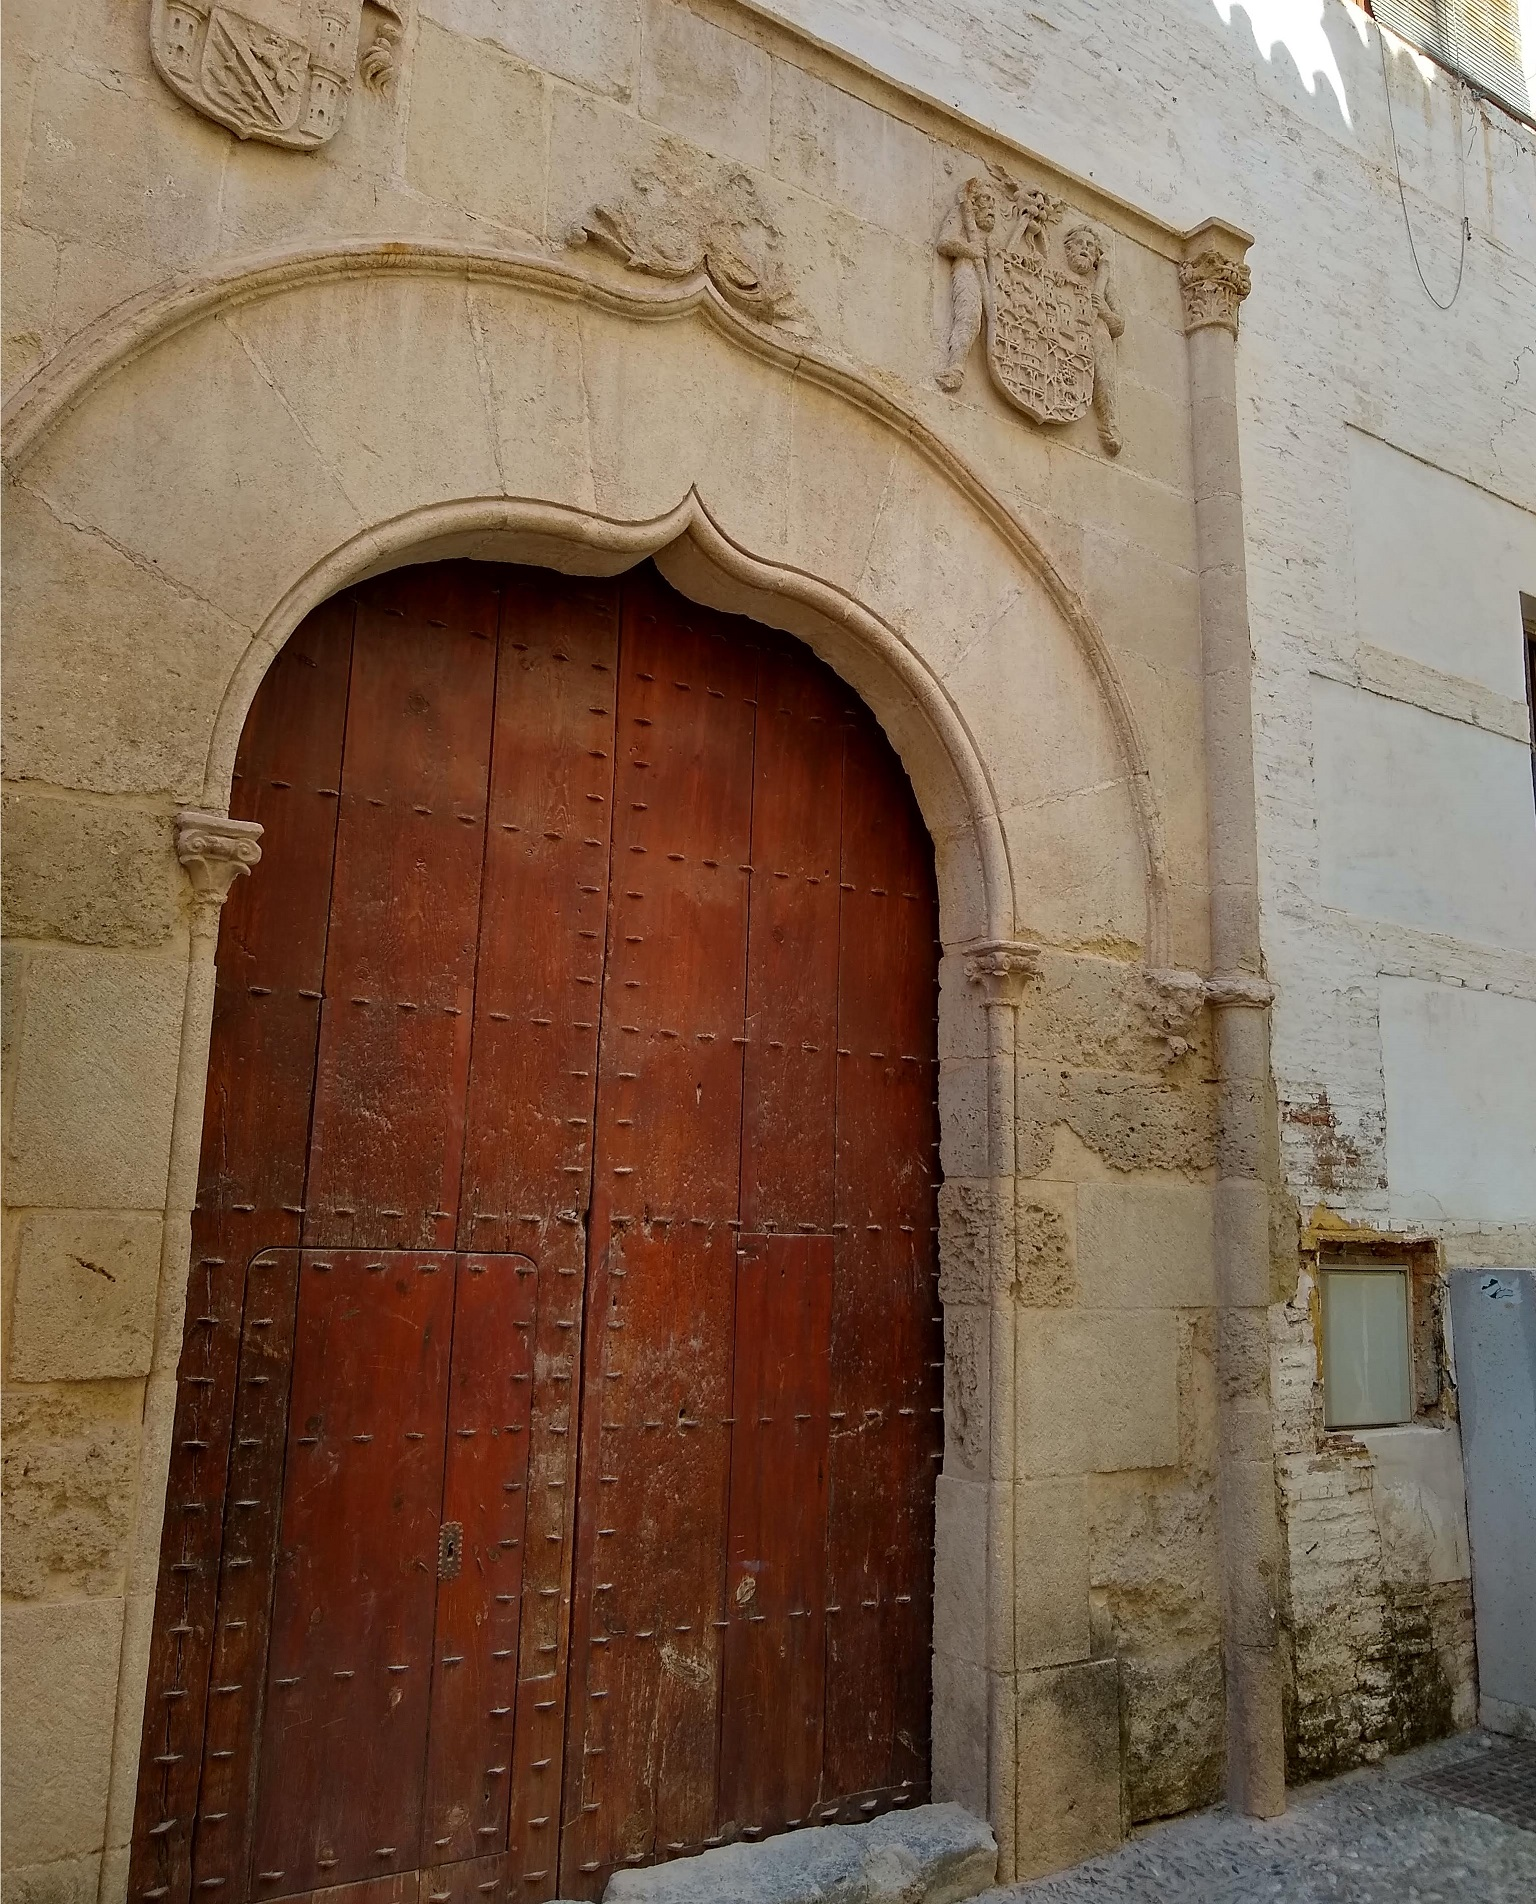arco-conopial: (197, 473, 1008, 757)
